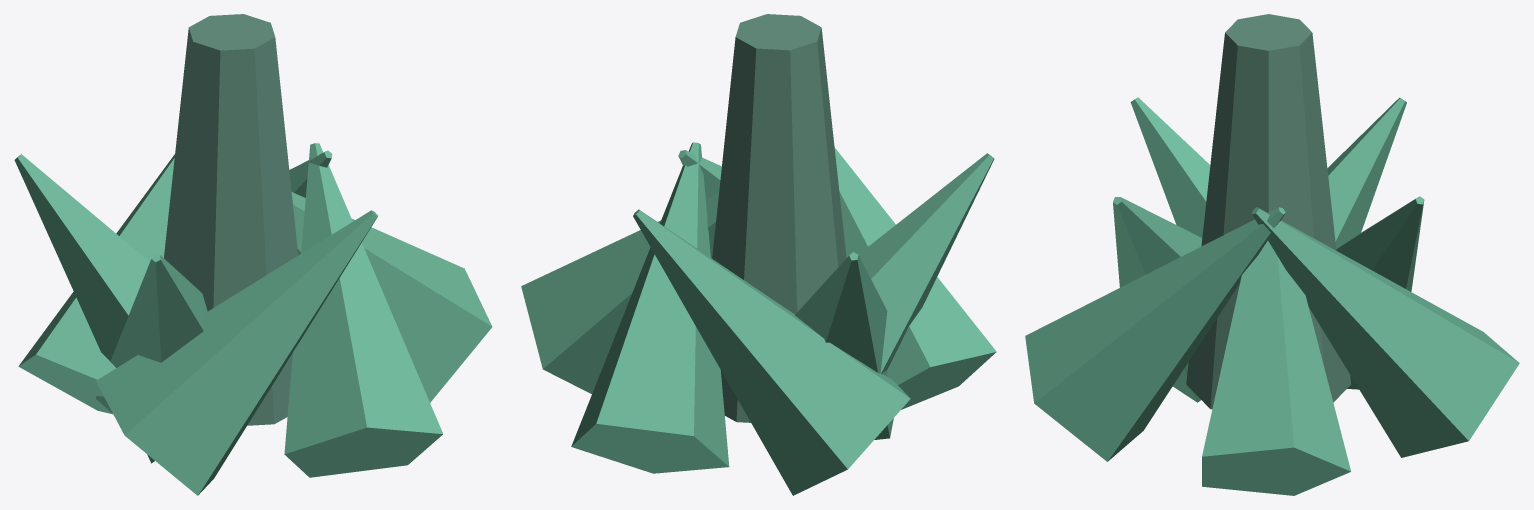
The model's file is Plant_02_LOD0.fbx.
3 views of the same model, side by side, from view 1: azimuth 30°, elevation 25°; view 2: azimuth 150°, elevation 25°; view 3: azimuth 270°, elevation 25° (orthographic). The views are drawn at different scales.
Visible parts, largest first — view 1: Plant_02_LOD0; view 2: Plant_02_LOD0; view 3: Plant_02_LOD0.
Boxes of the visible parts, bbox=[...] form: Plant_02_LOD0: bbox=[14, 14, 492, 495]; Plant_02_LOD0: bbox=[521, 14, 996, 495]; Plant_02_LOD0: bbox=[1025, 14, 1519, 495].
Bounding box in the file's own units: 190 × 181 × 204.
